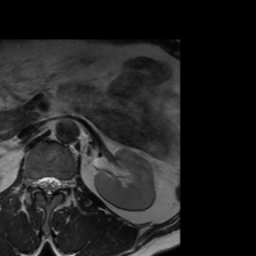CCS_normal: (44, 169, 53, 204)
LFS_normal: (60, 171, 69, 195)
LLS_normal: (53, 171, 60, 195)
RFS_normal: (28, 171, 35, 195)
RLS_normal: (35, 171, 44, 195)
